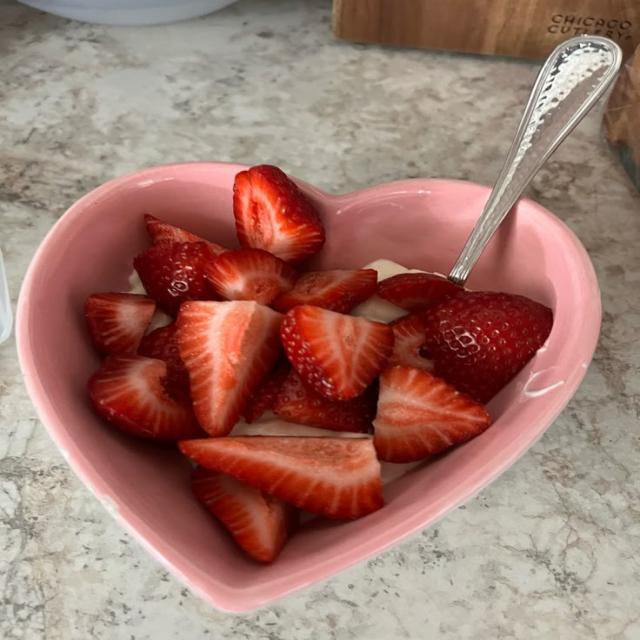strawberry sliced: (180, 436, 383, 518), (426, 291, 553, 402), (177, 302, 282, 436), (374, 366, 491, 462), (280, 306, 393, 399), (88, 355, 203, 441), (191, 468, 295, 562), (234, 166, 325, 262), (274, 371, 376, 432), (134, 242, 215, 315), (206, 249, 297, 305), (274, 269, 377, 313), (85, 293, 155, 354), (138, 324, 188, 392), (145, 214, 227, 255), (378, 273, 464, 311), (243, 363, 291, 424), (388, 313, 433, 371)
